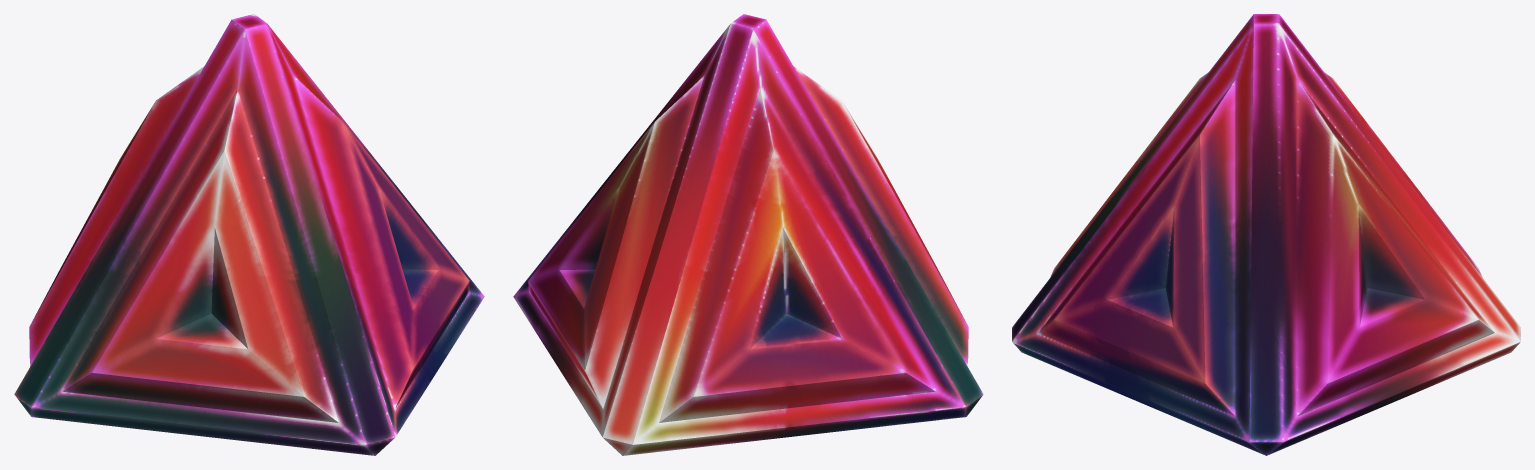
Rendered from Crystal03.FBX.
The picture shows the model from 3 angles, left to right: view 1: azimuth 30°, elevation 25°; view 2: azimuth 150°, elevation 25°; view 3: azimuth 270°, elevation 25°; orthographic projection. The views are drawn at different scales.
Visible parts, largest first — view 1: Crystal03; view 2: Crystal03; view 3: Crystal03.
Part boxes in pixels (box(x1,y1,x2,y2)): Crystal03: box(14, 14, 484, 455); Crystal03: box(513, 14, 983, 455); Crystal03: box(1012, 14, 1520, 455).
Bounding box in the file's own units: 30.91 × 22.32 × 30.91.
